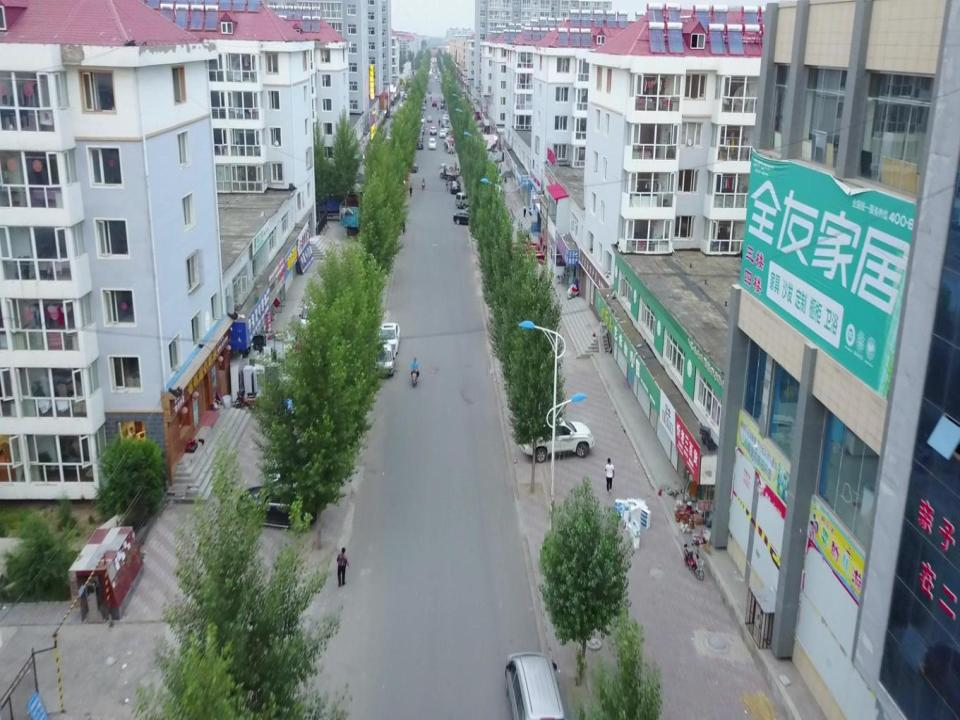car: (236, 482, 318, 529), (519, 416, 595, 462), (372, 342, 395, 376), (377, 322, 400, 354), (298, 305, 322, 332), (453, 210, 480, 225), (401, 161, 419, 173), (450, 180, 462, 194), (428, 138, 436, 149), (429, 125, 437, 135), (416, 141, 423, 150), (439, 129, 446, 137), (427, 115, 433, 122), (431, 99, 437, 106)
truck: (438, 163, 462, 180)
van: (506, 650, 566, 719), (456, 191, 482, 209)
